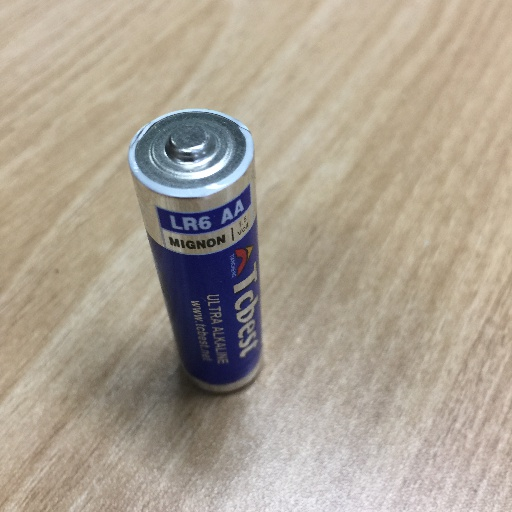Battery_0: (116, 90, 287, 407)
